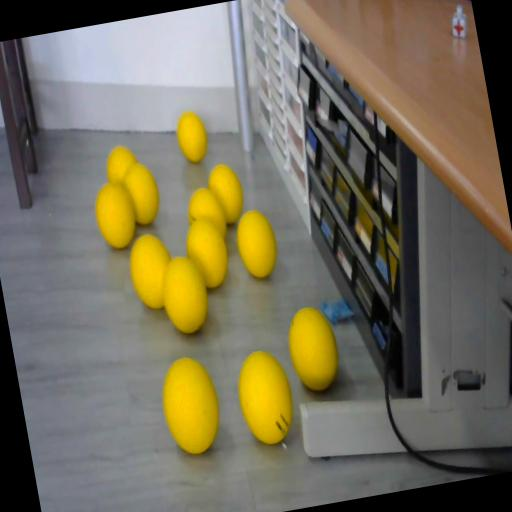FUEL: (154, 352, 226, 458), (230, 344, 300, 448), (282, 304, 343, 394), (123, 230, 178, 312), (180, 213, 233, 291), (231, 206, 281, 280), (90, 178, 140, 252), (119, 159, 164, 227), (204, 160, 247, 226), (172, 108, 210, 166)
